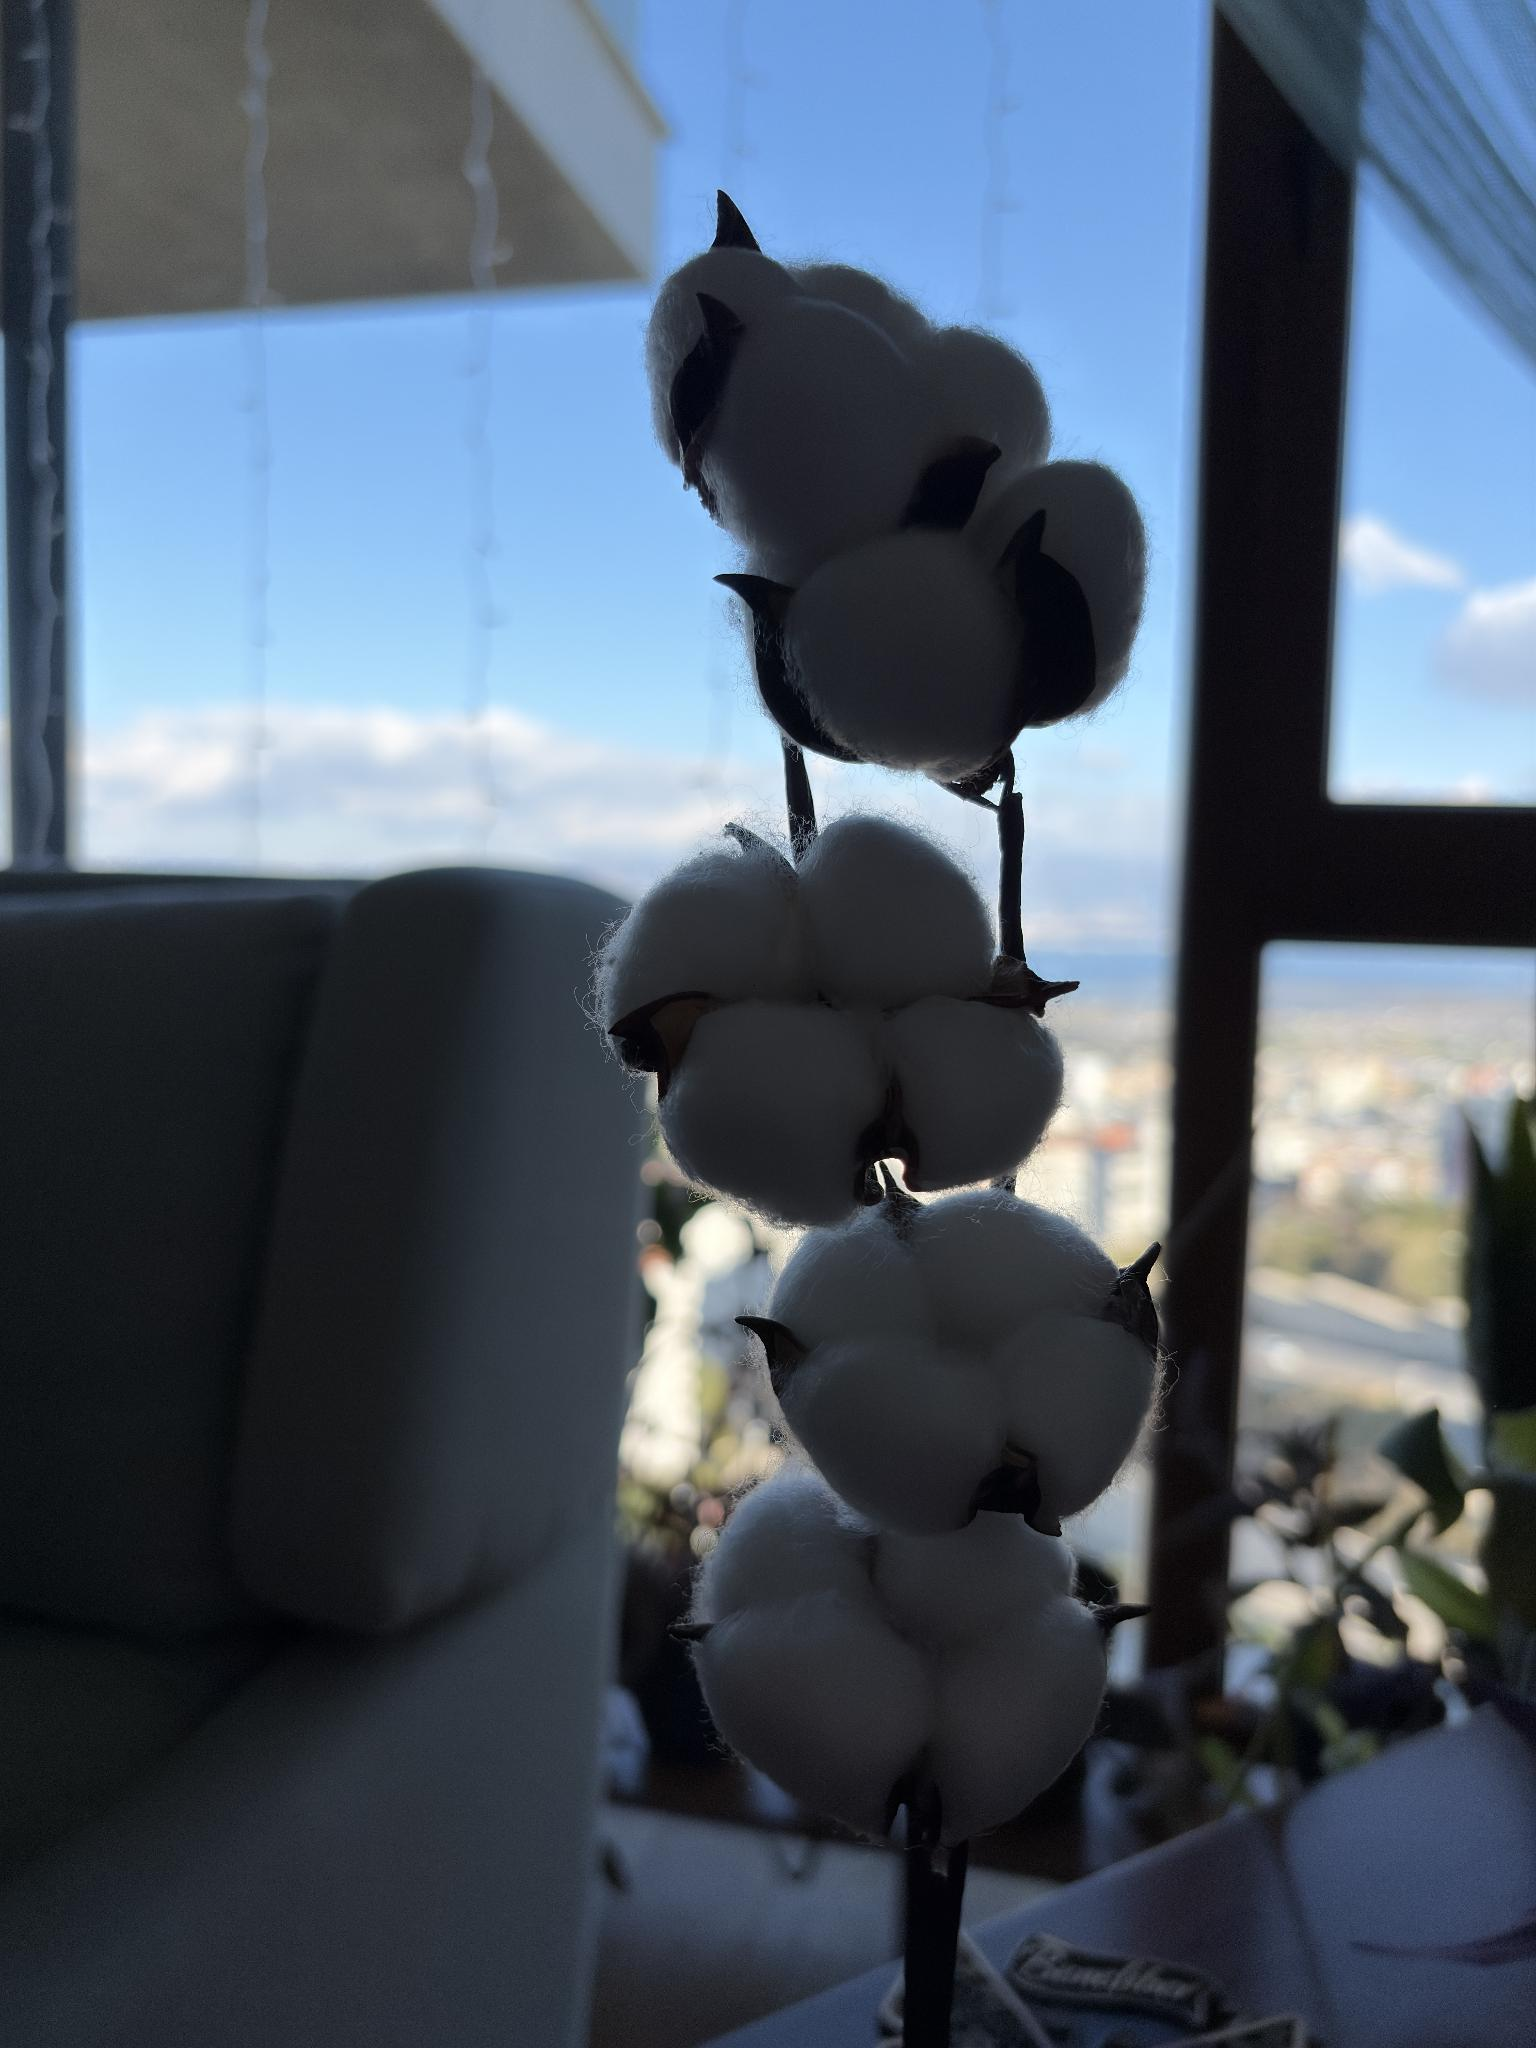cotton_boll: (689, 295, 945, 584), (783, 527, 1020, 780), (695, 1593, 934, 1834), (660, 1001, 887, 1226), (965, 461, 1147, 711), (934, 1596, 1107, 1843), (781, 1343, 1002, 1535), (597, 840, 810, 1029), (799, 816, 992, 1008), (881, 997, 1063, 1192), (984, 1311, 1154, 1519), (645, 245, 802, 468), (908, 1190, 1117, 1342), (699, 1467, 873, 1622), (873, 1514, 1071, 1646), (765, 1209, 937, 1350), (918, 326, 1050, 469), (791, 264, 939, 364), (966, 453, 1016, 531)
cotton_boll-cluster: (639, 240, 1154, 787), (589, 811, 1068, 1232), (691, 1461, 1112, 1850), (762, 1184, 1160, 1542)
